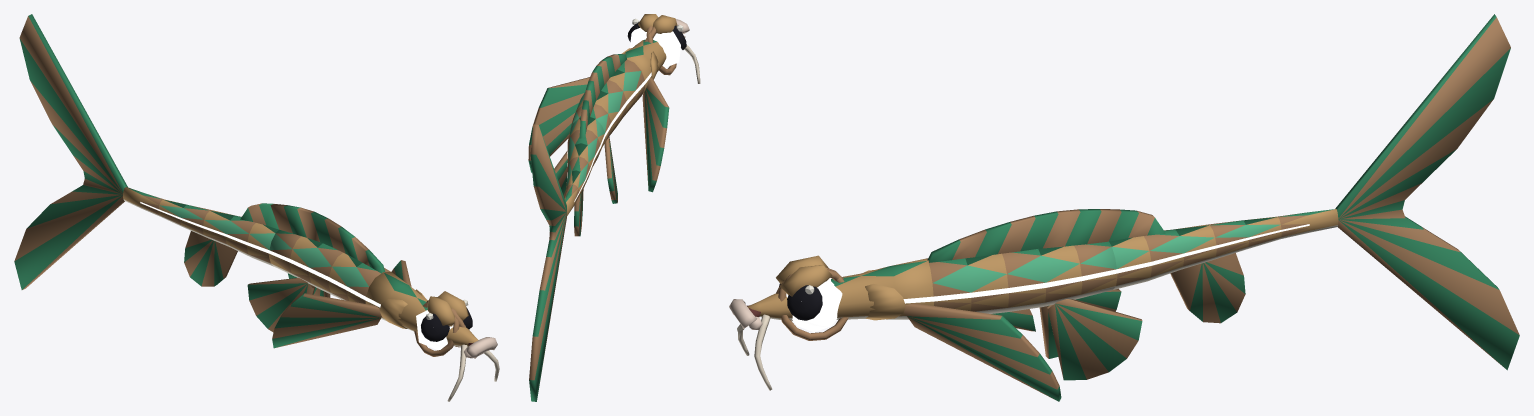
Rendered from carp-rapids-runner.glb.
The picture shows the model from 3 angles, left to right: view 1: azimuth 30°, elevation 25°; view 2: azimuth 150°, elevation 25°; view 3: azimuth 270°, elevation 25°; orthographic projection. The views are drawn at different scales.
Parts seen in each view (by area): view 1: wag_body_2, wag_body_0, wag_body_1, carp_head, glide_fin_r, blink_eye_r, pulse_gill_r; view 2: wag_body_2, wag_body_0, wag_body_1, glide_fin_l, glide_fin_r, carp_head, blink_eye_r, blink_eye_l, sway_barbel_r, pulse_gill_r; view 3: wag_body_2, wag_body_0, wag_body_1, carp_head, glide_fin_l, blink_eye_l, pulse_gill_l.
Boxes of the visible parts, <box> form: wag_body_2: <box>14,14,127,289</box>; wag_body_0: <box>247,204,390,332</box>; wag_body_1: <box>123,187,278,286</box>; carp_head: <box>365,272,497,358</box>; glide_fin_r: <box>272,293,381,348</box>; blink_eye_r: <box>416,310,453,350</box>; pulse_gill_r: <box>379,299,407,328</box>; wag_body_2: <box>529,124,566,401</box>; wag_body_0: <box>554,54,645,203</box>; wag_body_1: <box>564,100,605,236</box>; glide_fin_l: <box>528,77,589,172</box>; glide_fin_r: <box>642,77,669,192</box>; carp_head: <box>623,14,689,94</box>; blink_eye_r: <box>653,25,686,67</box>; blink_eye_l: <box>627,18,646,48</box>; sway_barbel_r: <box>684,45,700,83</box>; pulse_gill_r: <box>650,51,658,79</box>; wag_body_2: <box>1335,14,1519,370</box>; wag_body_0: <box>926,209,1142,380</box>; wag_body_1: <box>1109,209,1338,323</box>; carp_head: <box>729,255,933,340</box>; glide_fin_l: <box>904,303,1061,401</box>; blink_eye_l: <box>786,280,842,332</box>; pulse_gill_l: <box>865,284,905,320</box>.
Size of the model in its own units: 0.3 by 0.4163 by 0.8409.
